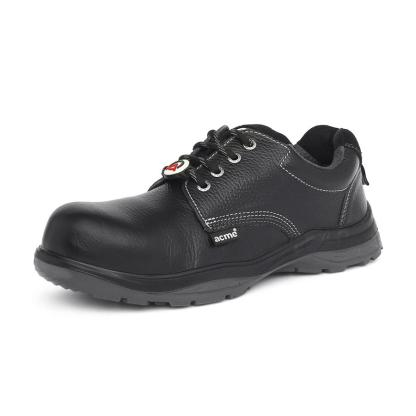bota: (31, 119, 387, 310)
